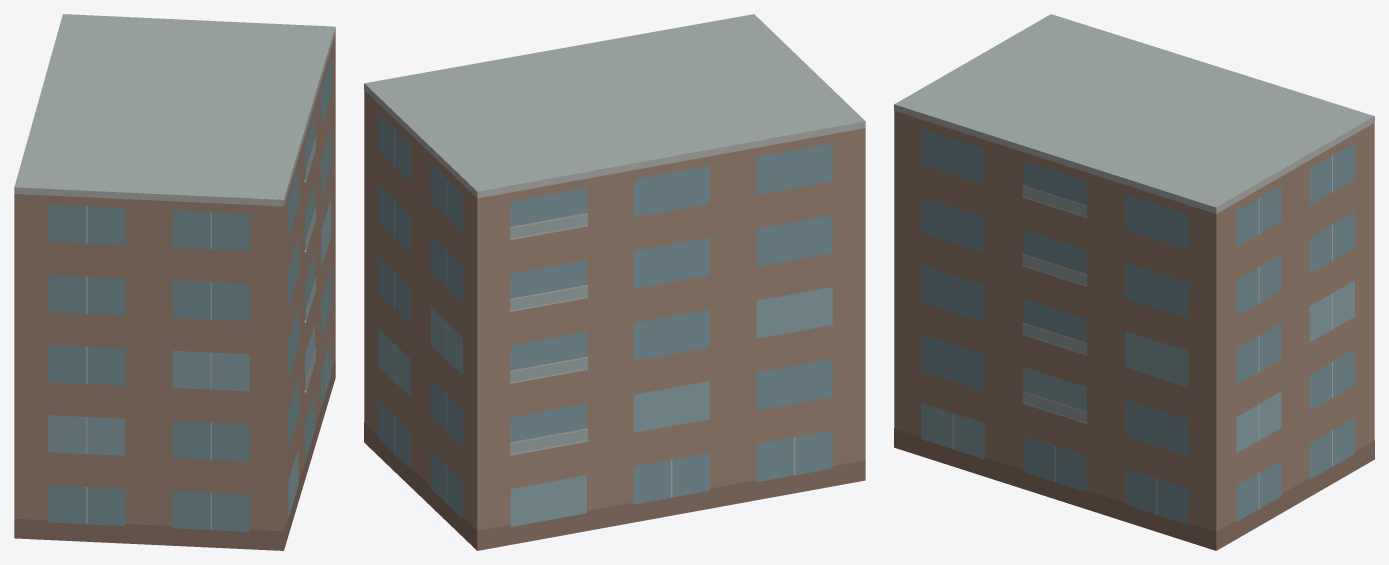
Rendered from survey-upis-32494739.glb.
3 renders of one model, left to right at view 1: azimuth 30°, elevation 25°; view 2: azimuth 150°, elevation 25°; view 3: azimuth 270°, elevation 25°, orthographic. The views are drawn at different scales.
Parts seen in each view (by area): view 1: survey-upis-32494739.tmp; view 2: survey-upis-32494739.tmp; view 3: survey-upis-32494739.tmp.
Part boxes in pixels (x1,y1,x2,y2): survey-upis-32494739.tmp: [14, 14, 335, 550]; survey-upis-32494739.tmp: [364, 14, 865, 550]; survey-upis-32494739.tmp: [894, 14, 1374, 550].
Size of the model in its own units: 15.86 by 13.1 by 16.63.
